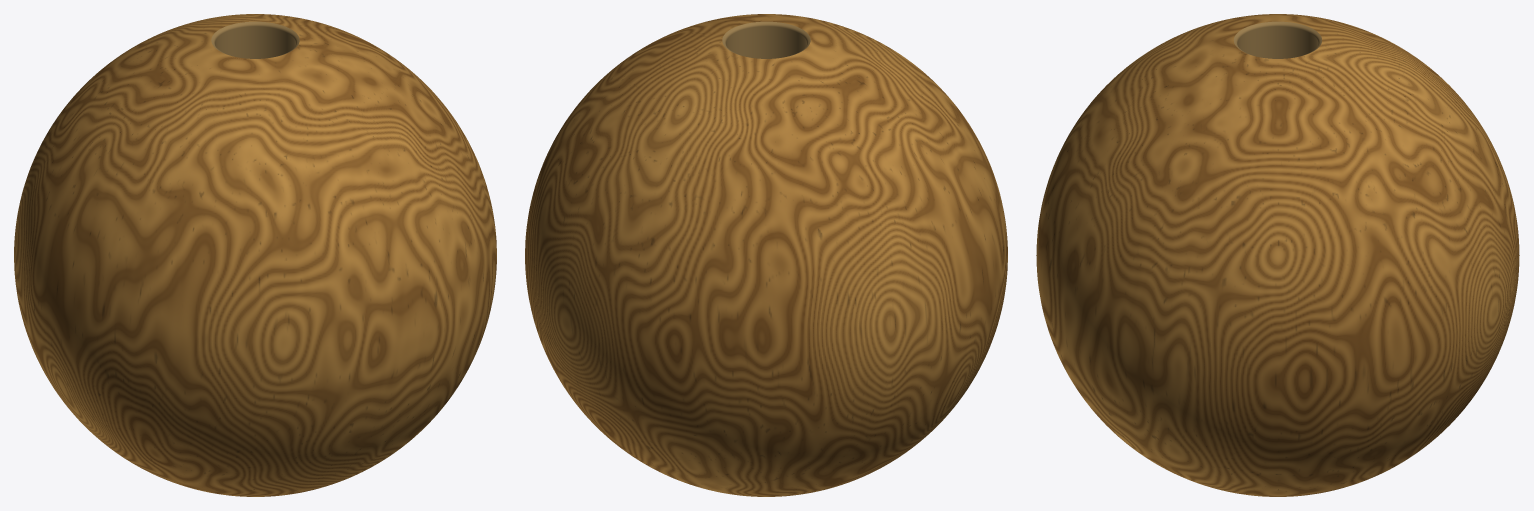
The model's file is wood-golden-camphor-6mm.glb.
The picture shows the model from 3 angles, left to right: view 1: azimuth 30°, elevation 25°; view 2: azimuth 150°, elevation 25°; view 3: azimuth 270°, elevation 25°; orthographic projection.
Visible parts, largest first — view 1: golden-camphor; view 2: golden-camphor; view 3: golden-camphor.
Part boxes in pixels (bbox=[...]): golden-camphor: bbox=[14, 14, 496, 496]; golden-camphor: bbox=[525, 14, 1007, 496]; golden-camphor: bbox=[1036, 14, 1519, 496].
Bounding box in the file's own units: 0.006 × 0.0059 × 0.006.
Materials: 2 (1 with a texture image).
